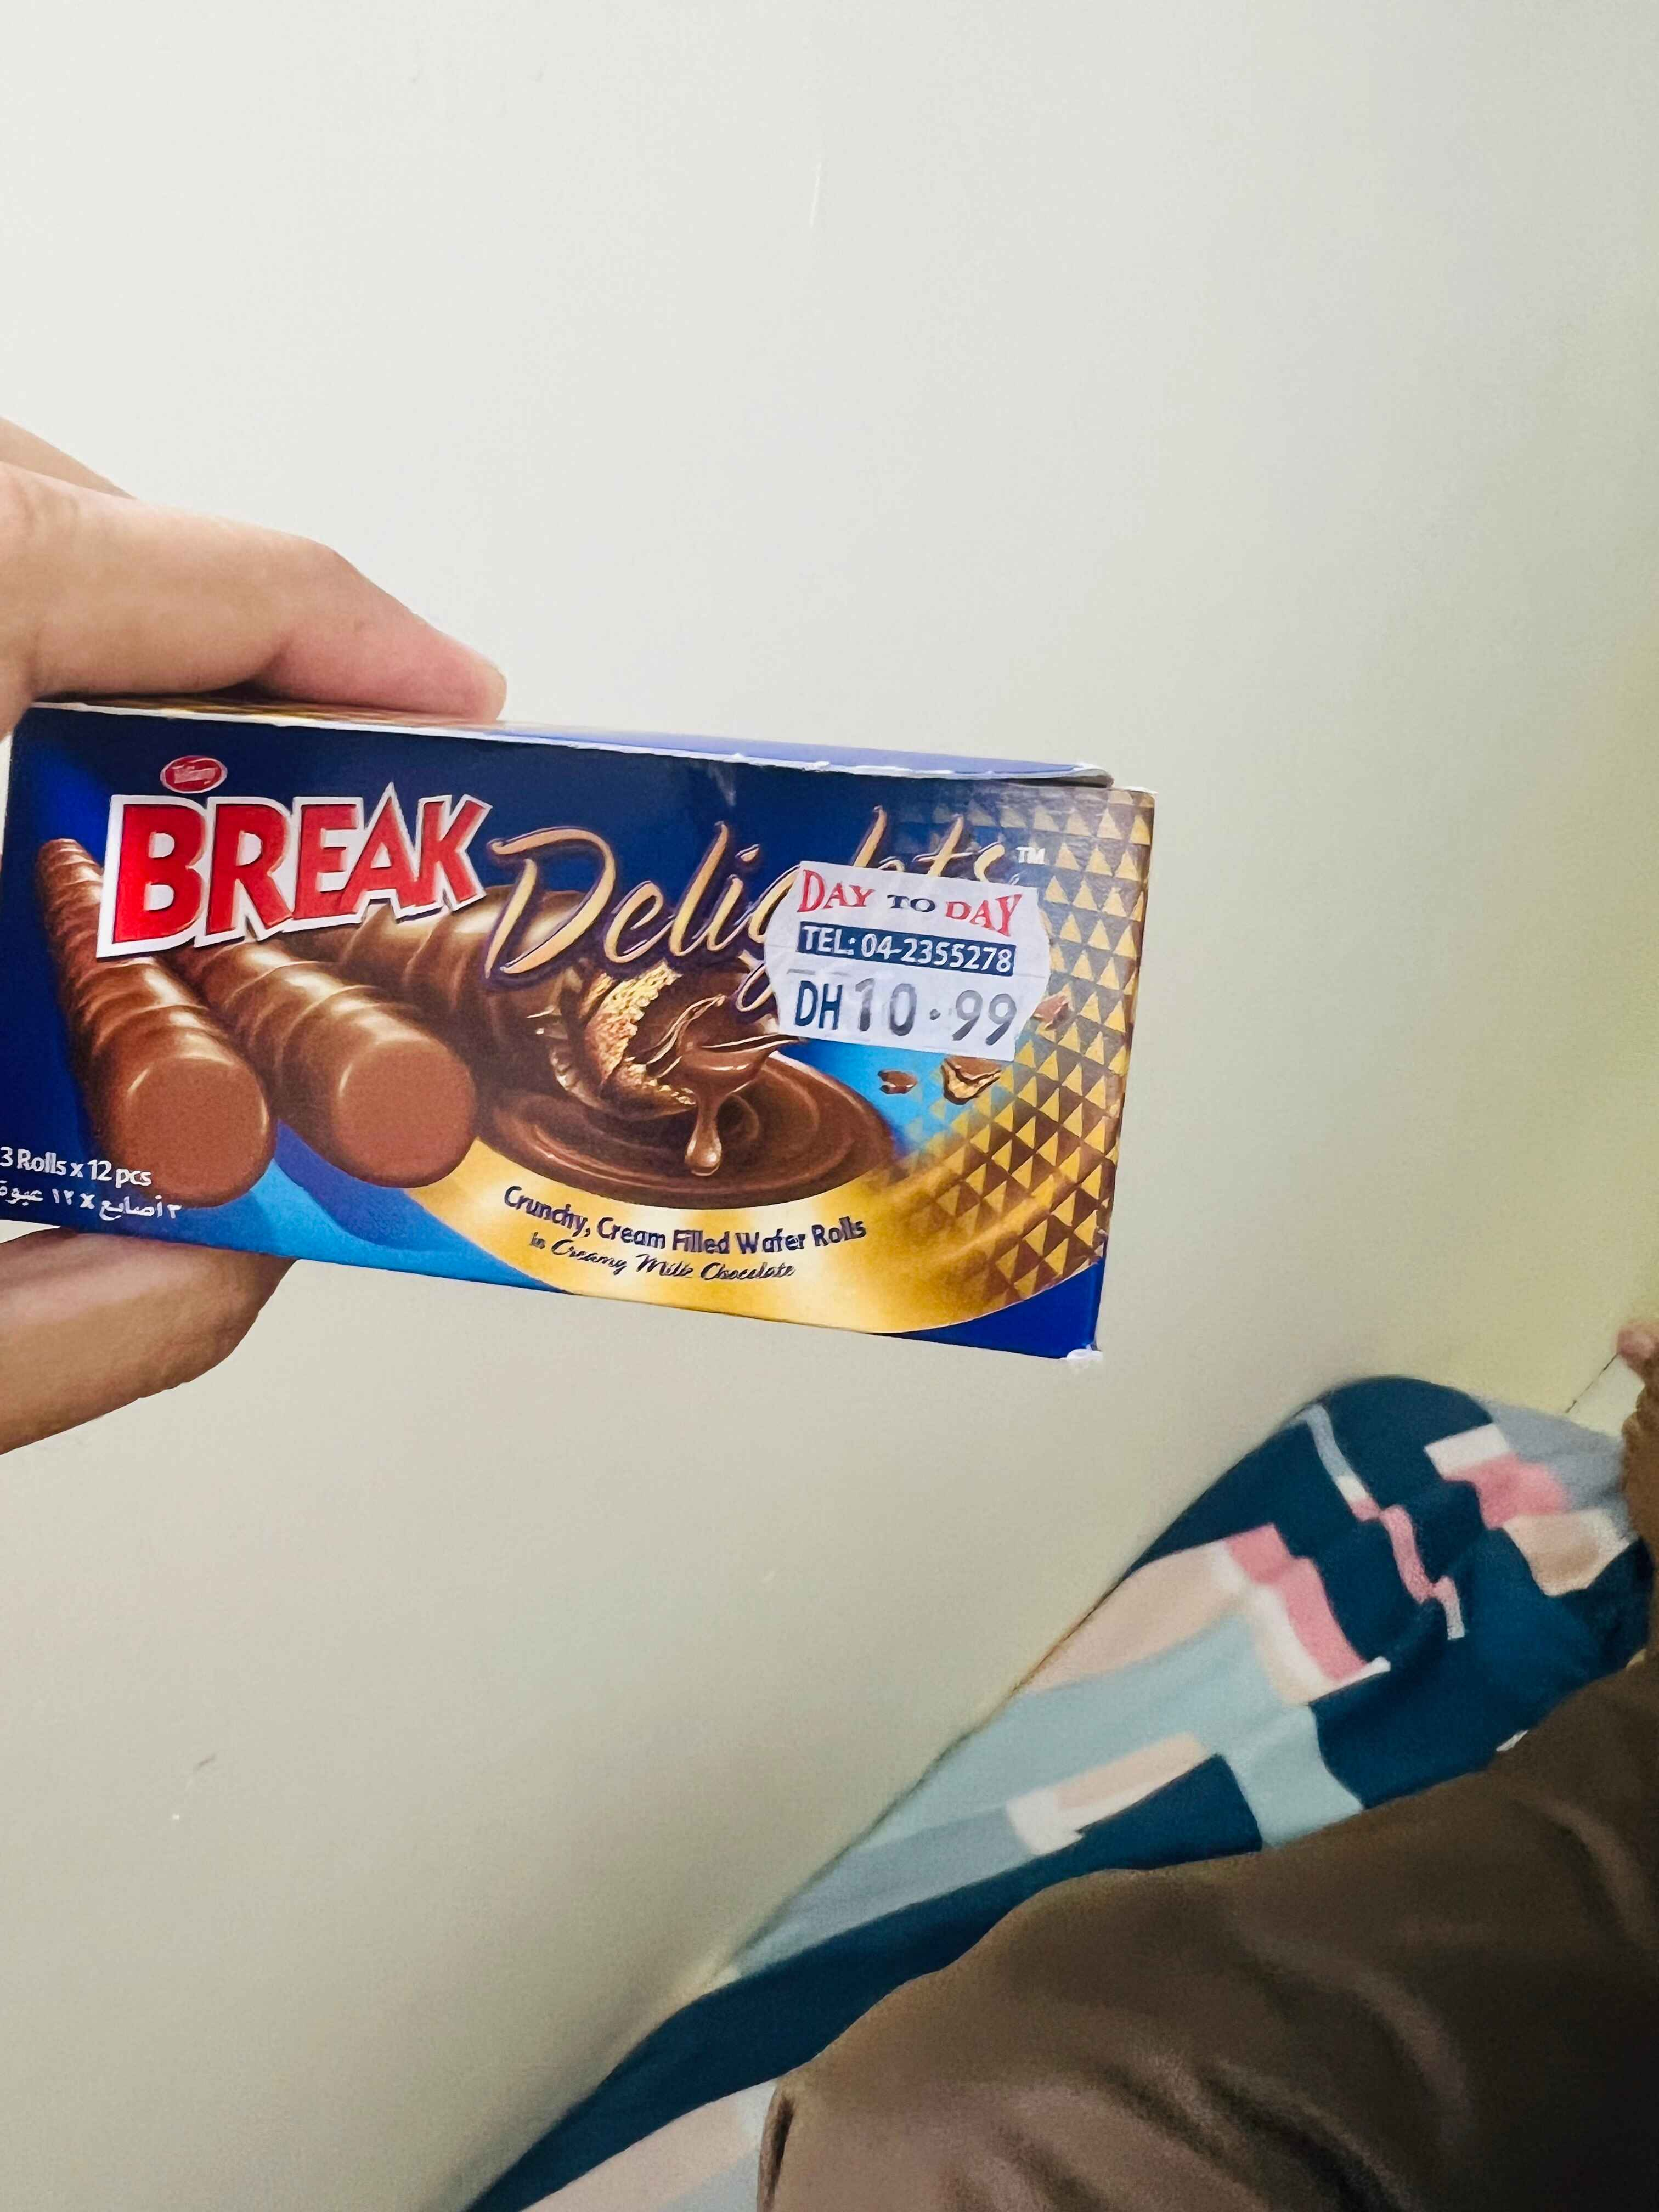PriceTagSmall: (763, 848, 1054, 1064)
